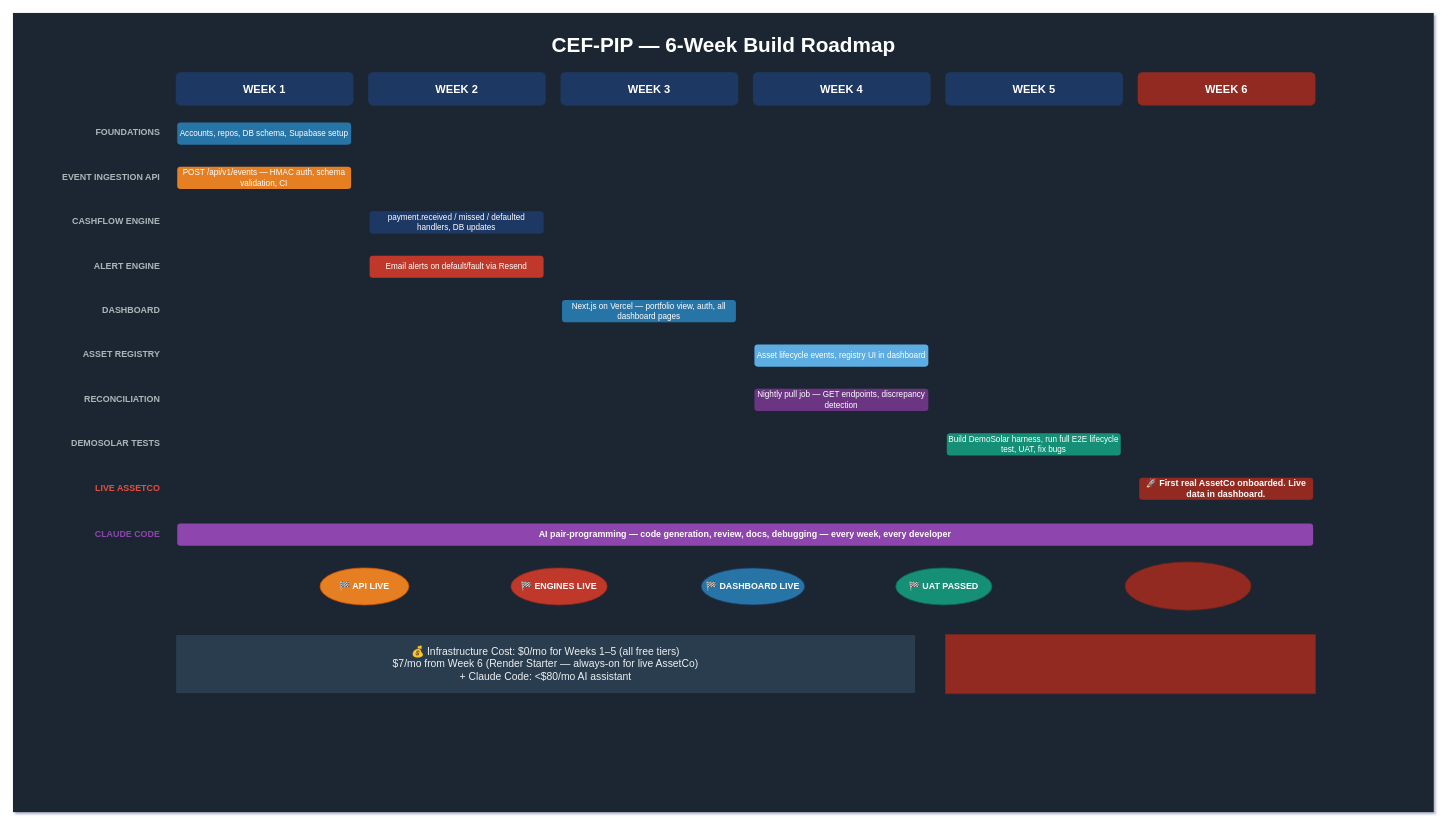
The diagram is 1450 pixels wide and 829 high, and some of its shapes have lost their labels. Here are the shapes that lost their labels. From the top down, the centre of each, then its label:
At point (1187, 585): "🚀 MVP DELIVERED".
At point (1130, 664): "vs. External dev team: $30,000–$80,000".
